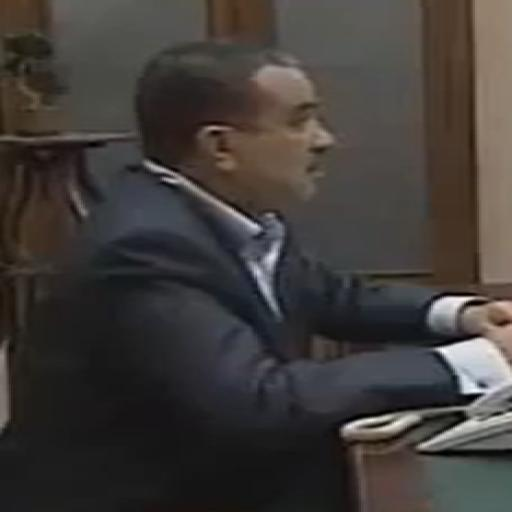slimane: (136, 42, 336, 214)
